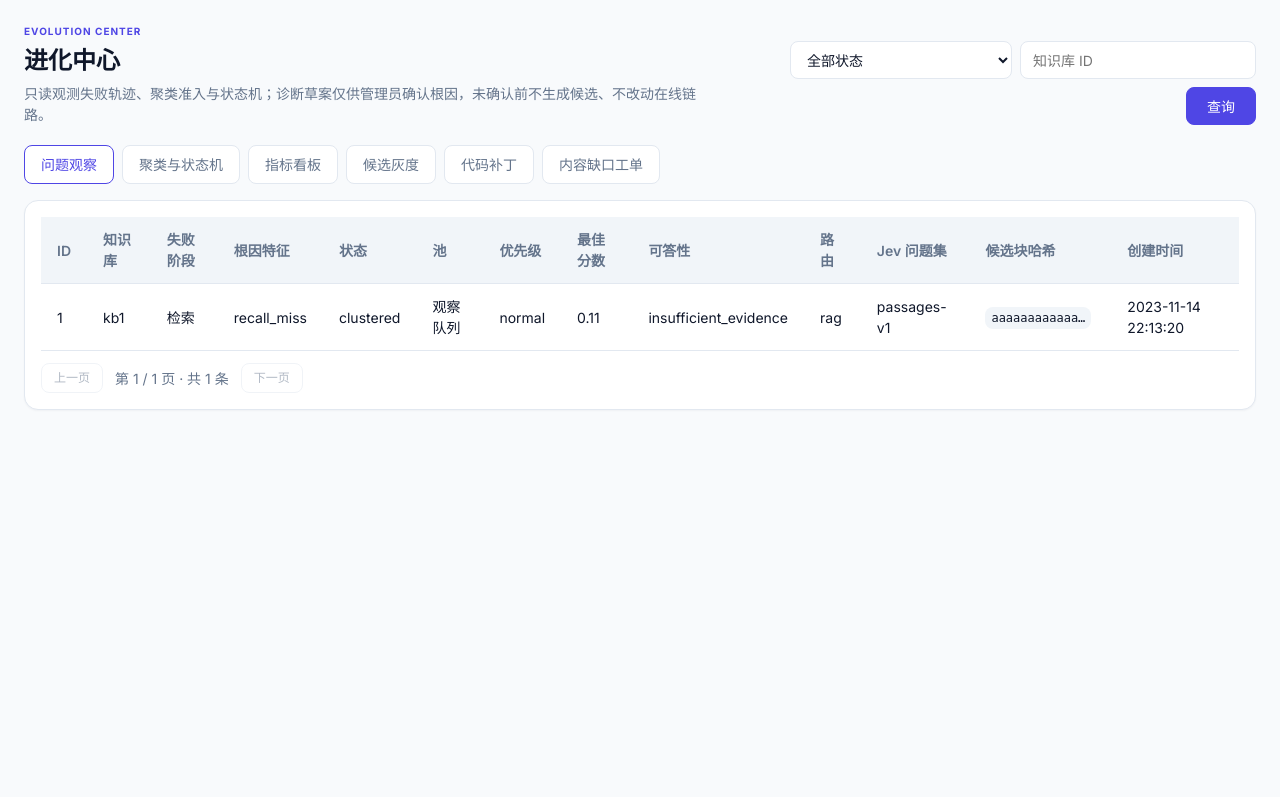
Test: EvolutionCenterView member-draft review › renders each member with its own draft (fields, flag) and the audit list
Click the button with test id "tab-clusters" at (181, 164), box [122, 145, 240, 184]
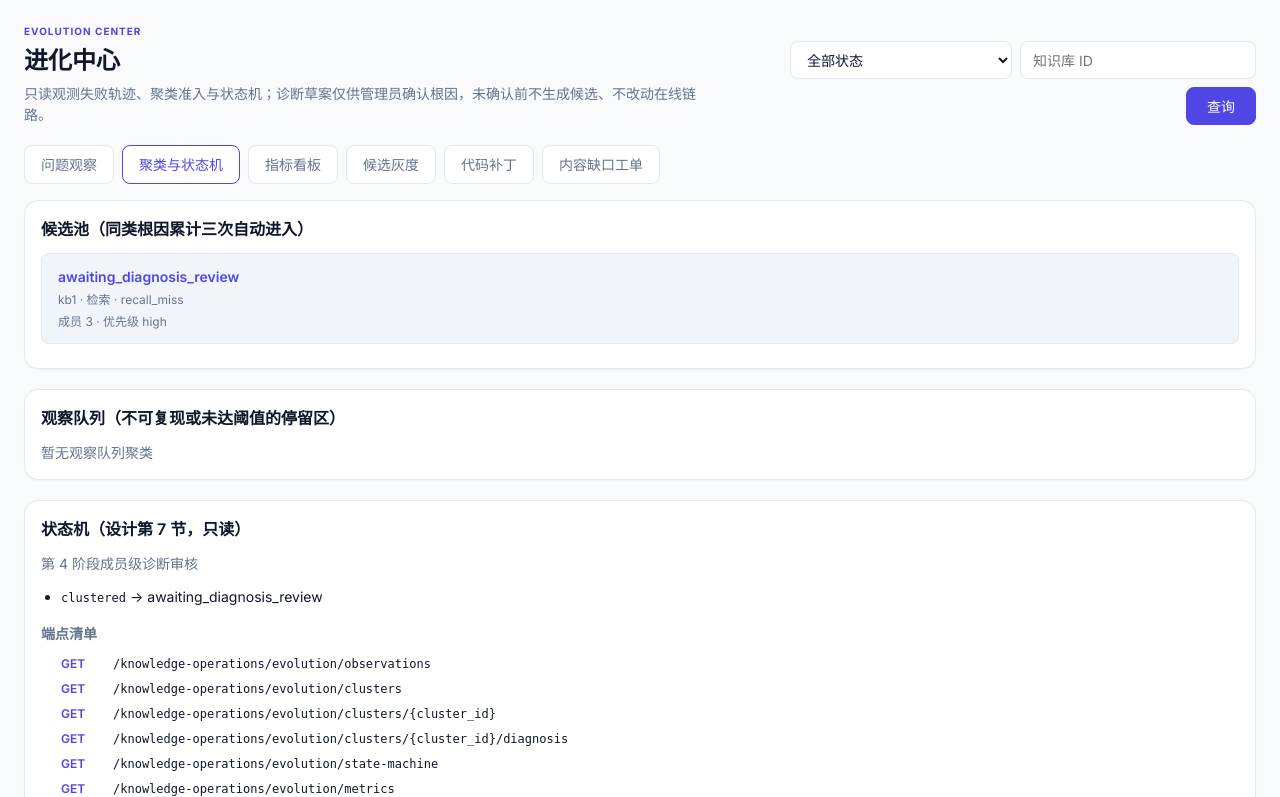
Click the button with test id "cluster-card" at (149, 276), box [41, 253, 1239, 344]
(page scrolled)
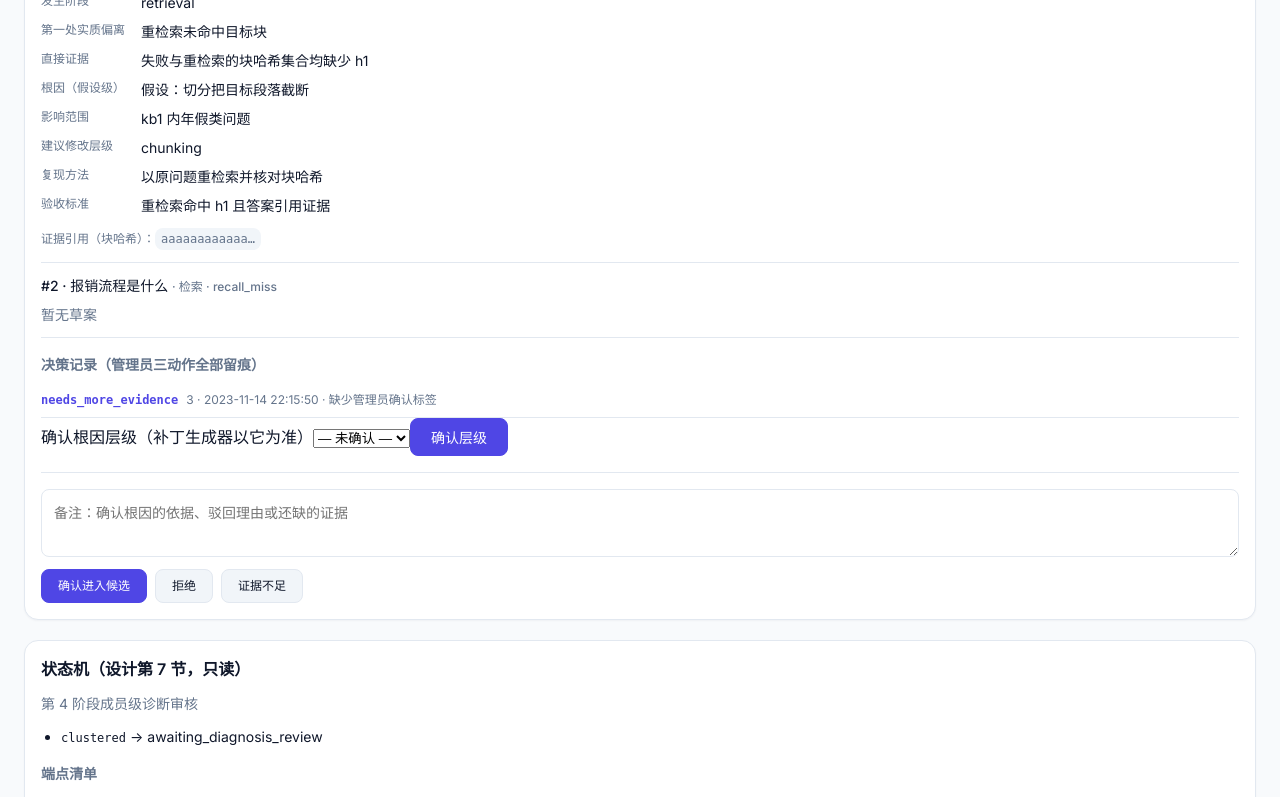
Check: the element with test id "member-draft" shows "重检索未命中目标块", box [141, 23, 267, 40]
Check: the element with test id "member-draft" shows "失败与重检索的块哈希集合均缺少 h1", box [141, 52, 368, 69]
Check: the element with test id "member-draft" shows "假设：切分把目标段落截断", box [141, 81, 309, 98]
